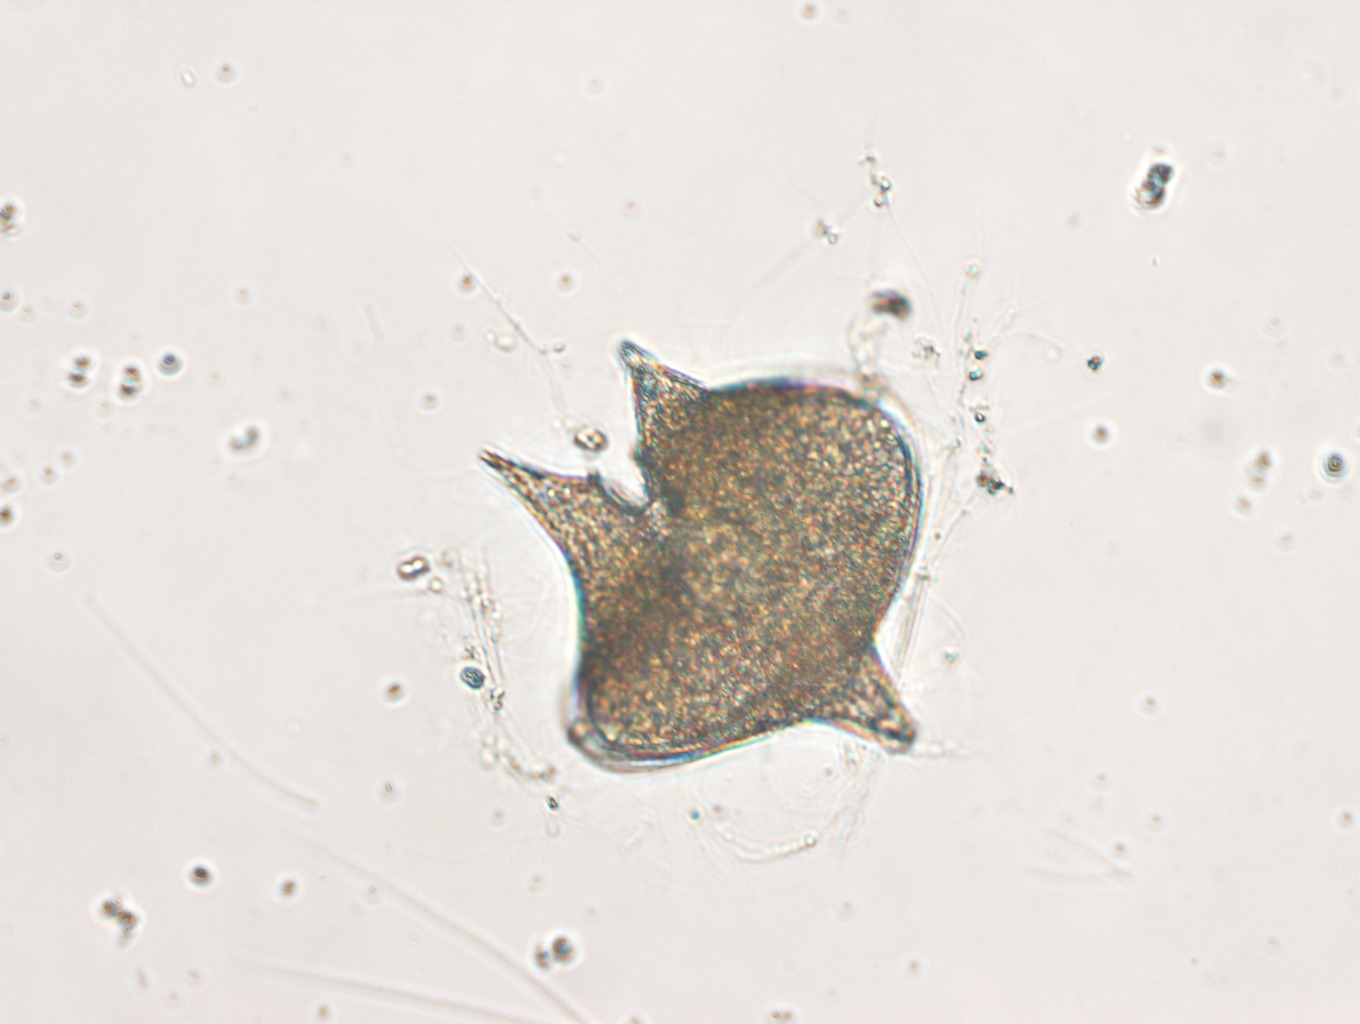protoperidinium: (476, 335, 931, 781)
